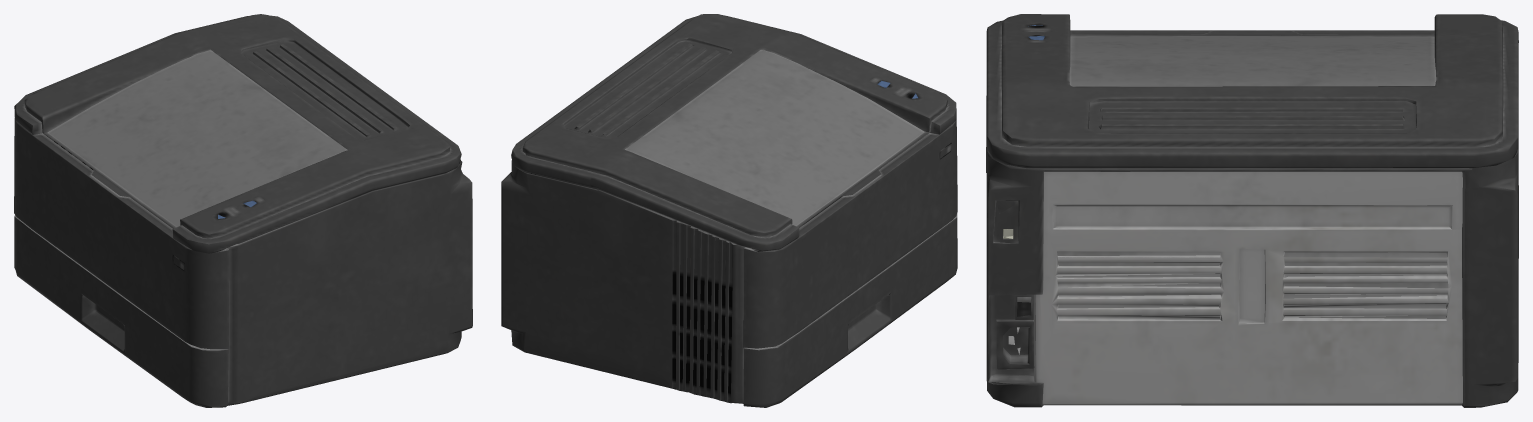
The model's file is SM_Office_Supplies03a.fbx.
3 renders of one model, left to right at view 1: azimuth 30°, elevation 25°; view 2: azimuth 150°, elevation 25°; view 3: azimuth 270°, elevation 25°, orthographic. The views are drawn at different scales.
Visible parts, largest first — view 1: SM_Office_Supplies03a_LOD0; view 2: SM_Office_Supplies03a_LOD0; view 3: SM_Office_Supplies03a_LOD0.
Boxes of the visible parts, x1,y1,x2,y2 form: SM_Office_Supplies03a_LOD0: (14,14,472,407); SM_Office_Supplies03a_LOD0: (501,14,957,407); SM_Office_Supplies03a_LOD0: (986,14,1518,407).
Bounding box in the file's own units: 37.95 × 48.66 × 26.58.
